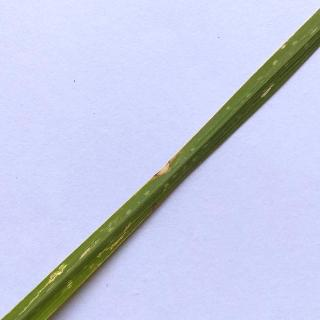Blast: (254, 75, 281, 105), (149, 156, 178, 183)
